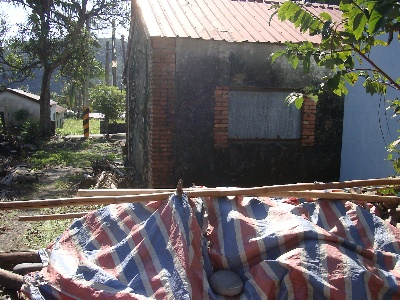plastic_bag: (17, 193, 400, 300)
